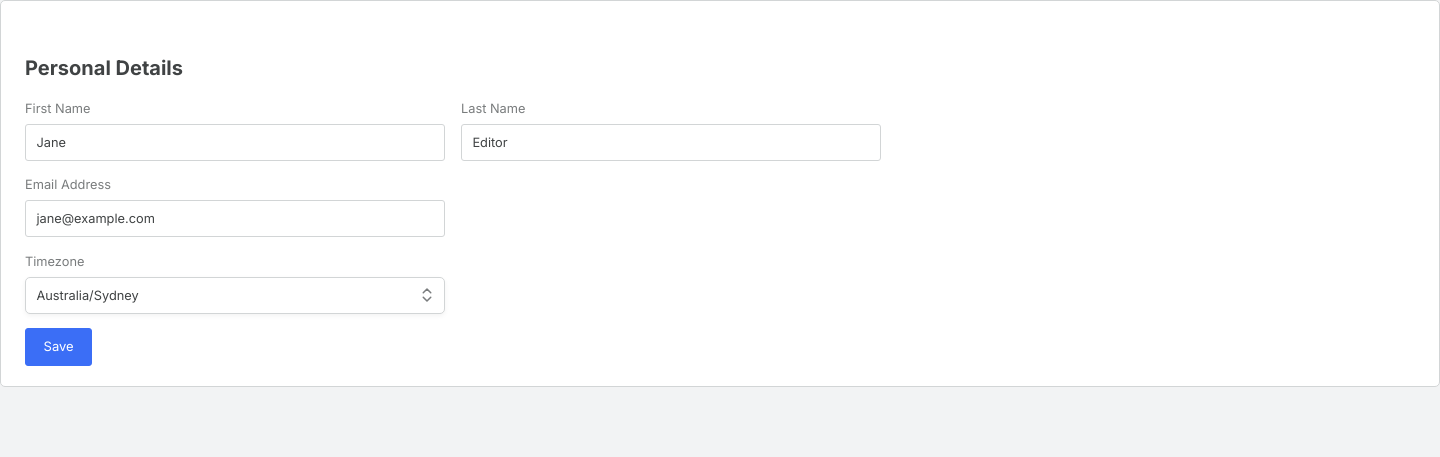
Test: PersonalDetailsPage › a server error updating details is shown inline
Expected: the field labelled "First Name" holds "Jane", [25,124,445,161]
What coordinates should you click on to do the following:
click the button "Save"
I would click on:
 (59, 347)
Its box is [25,328,92,366].
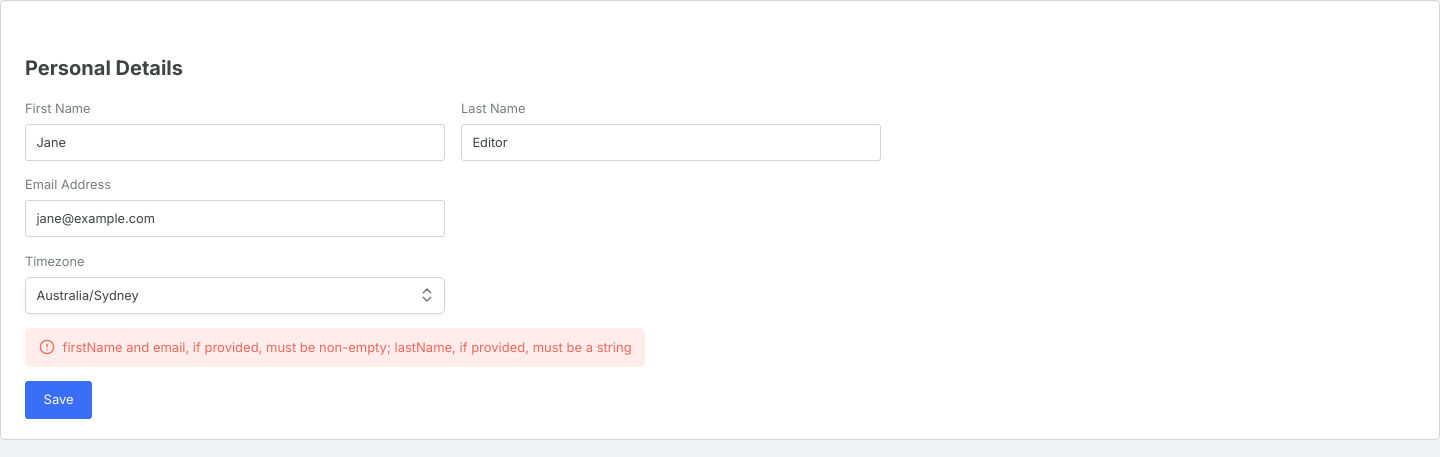
Result: the text "firstName and email, if provided, must be non-empty; lastName, if provided, must be a string" is shown at [63,339,632,355]
